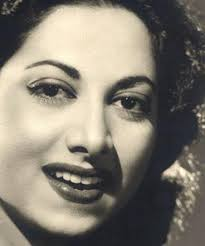indian_female: (8, 1, 177, 233)
